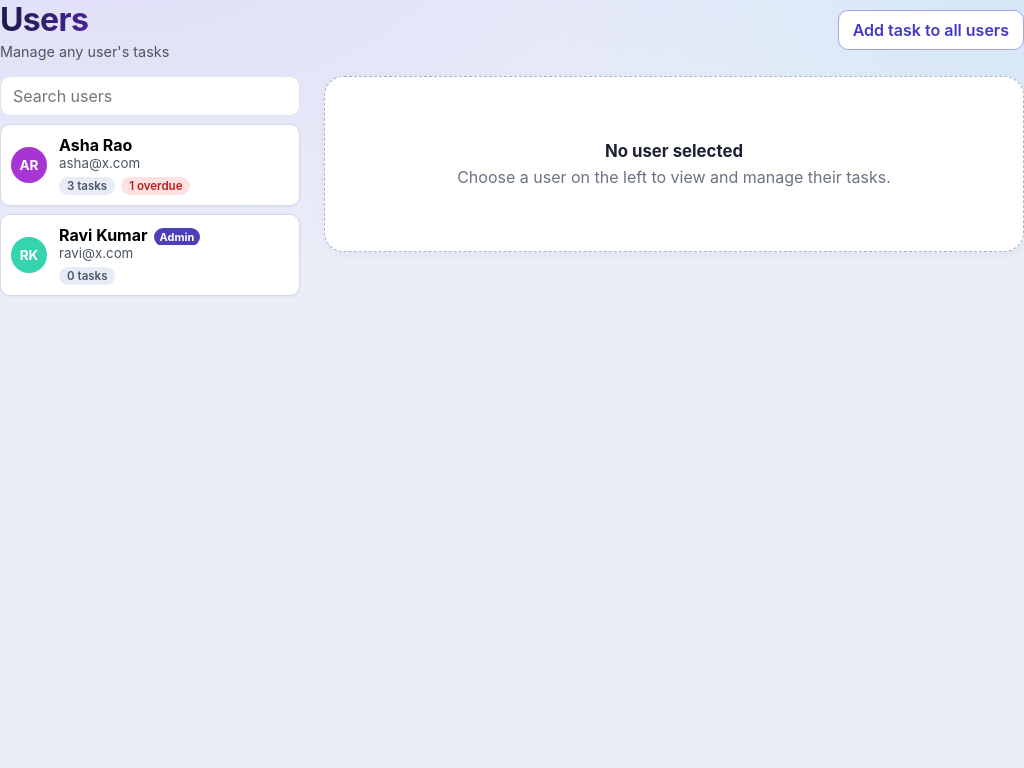
AdminPanel › does not delete when the confirmation is cancelled
The width and height of the screenshot is (1024, 768).
Click the button "AR Asha Rao asha@x.com 3 tasks 1 overdue": [29, 165] box x1=0 y1=124 x2=300 y2=206
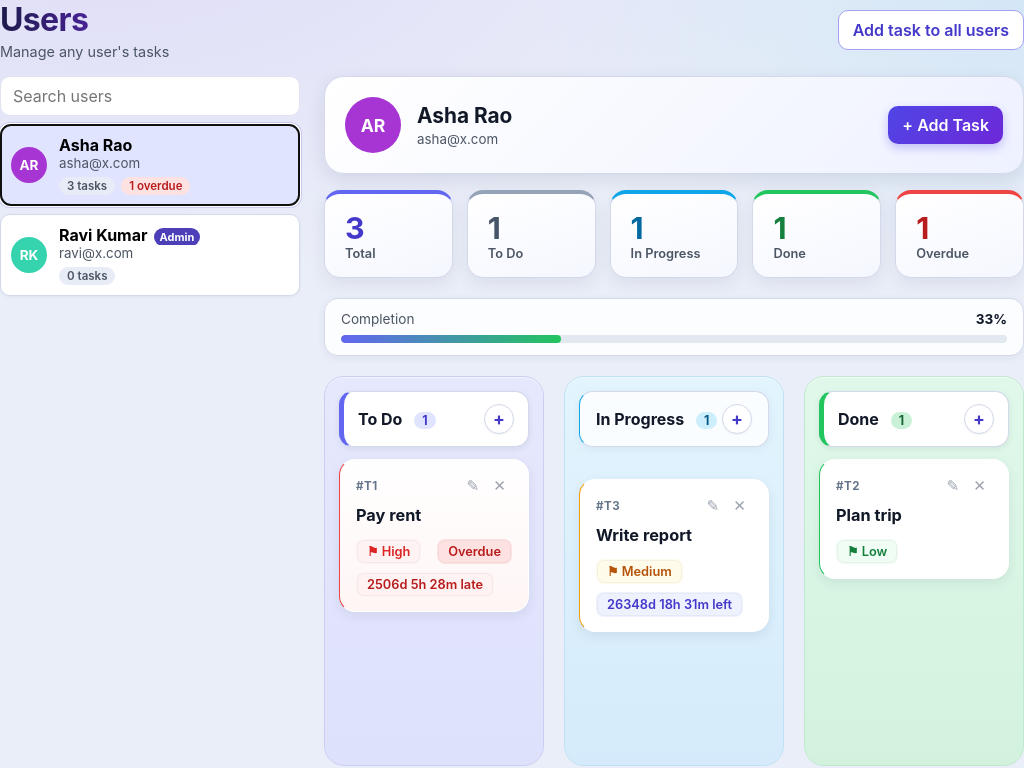
Click the button named "Delete task": [500, 486] box x1=487 y1=474 x2=512 y2=497
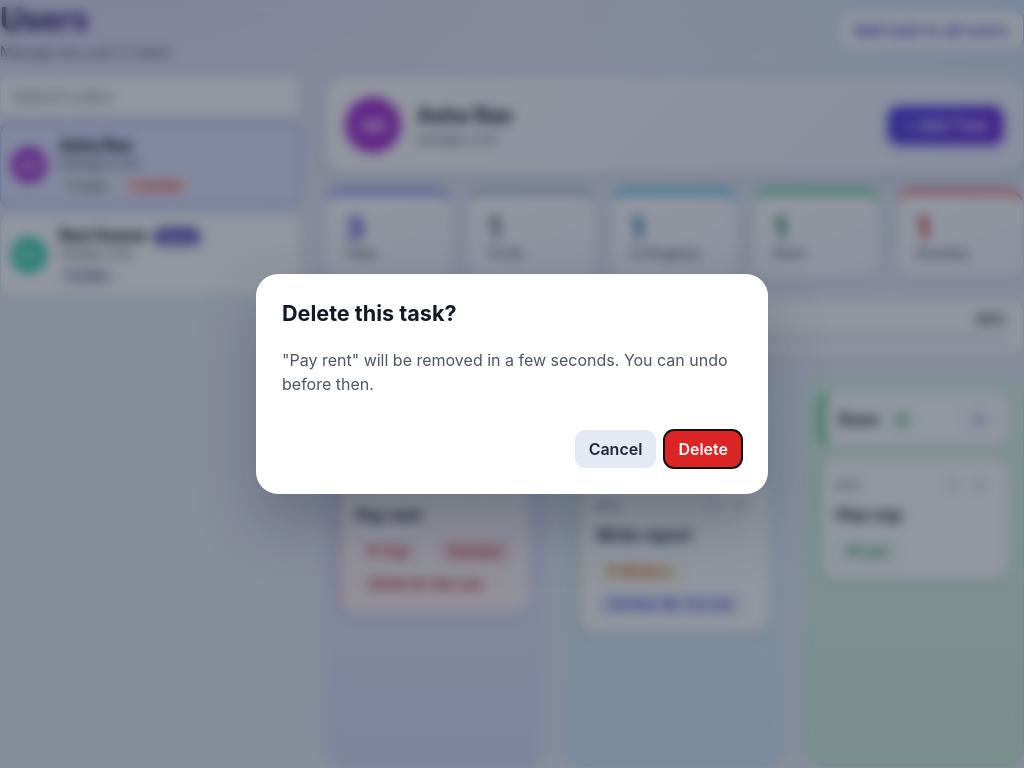
Click the button "Cancel": [615, 449] box x1=575 y1=430 x2=656 y2=468
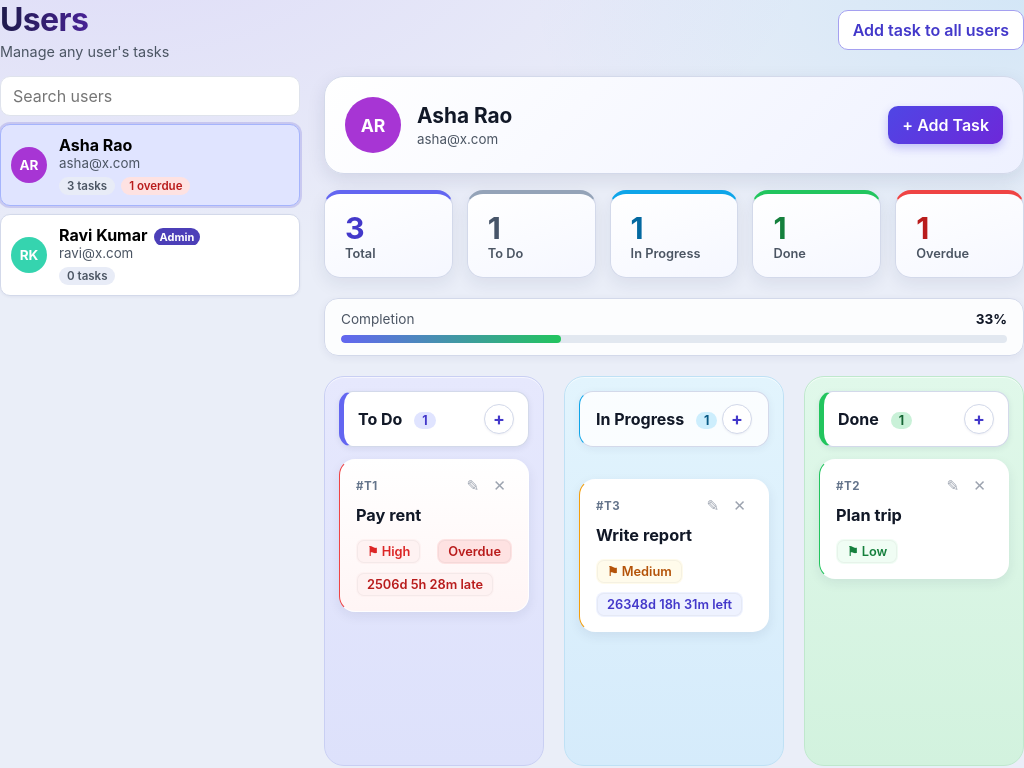
Check: the heading "Pay rent" is shown, box x1=356 y1=505 x2=421 y2=525
Check: the dialog is gone
